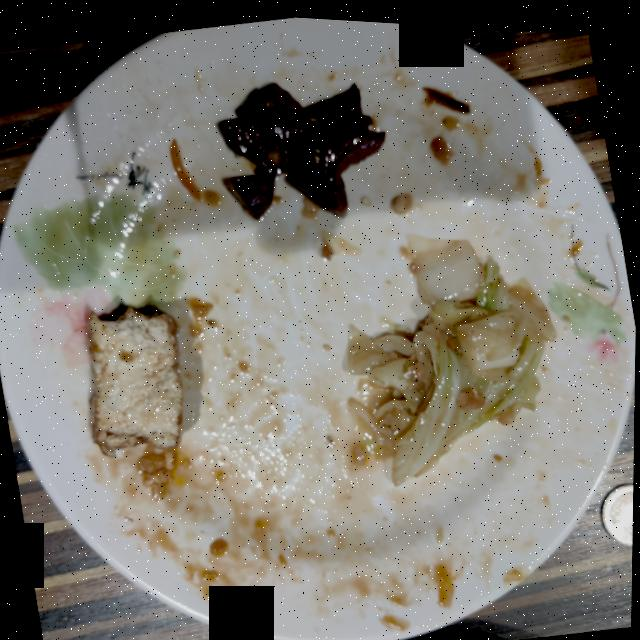cabbage: (346, 231, 556, 480)
coin: (602, 476, 635, 537)
egg tofu: (87, 306, 183, 455)
pig blood curd: (217, 79, 385, 216)
